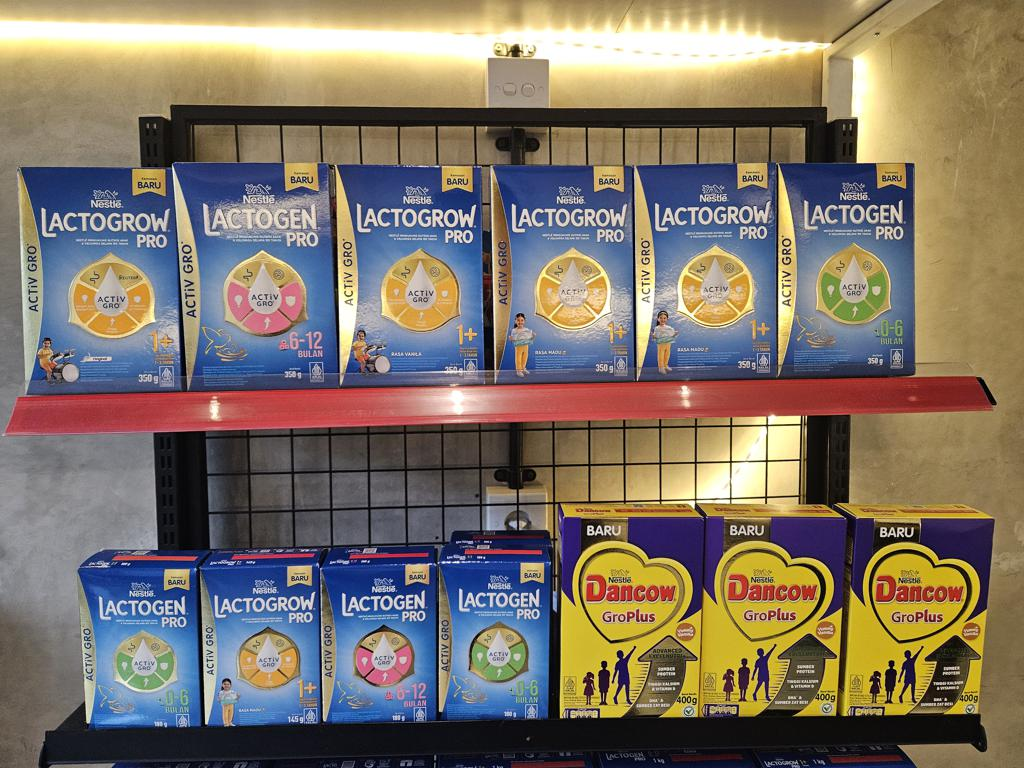LACTOGEN PRO 0-6 mo 24x350g ID: (774, 157, 919, 380)
LACTOGEN PRO 0-6 mo 40x180g ID: (79, 566, 204, 729), (435, 560, 553, 725)
LACTOGEN PRO 6-12 mo 24x350g ID: (173, 160, 339, 381)
LACTOGEN PRO 6-12 mo 40x180g ID: (320, 564, 439, 721)
LACTOGROW PRO 1+ Honey 24x350g ID: (630, 160, 784, 382), (487, 161, 639, 384)
LACTOGROW PRO 1+ Honey 40x145g ID: (199, 561, 322, 724)
LACTOGROW PRO 1+ Van 24x350g ID: (330, 162, 490, 382)
